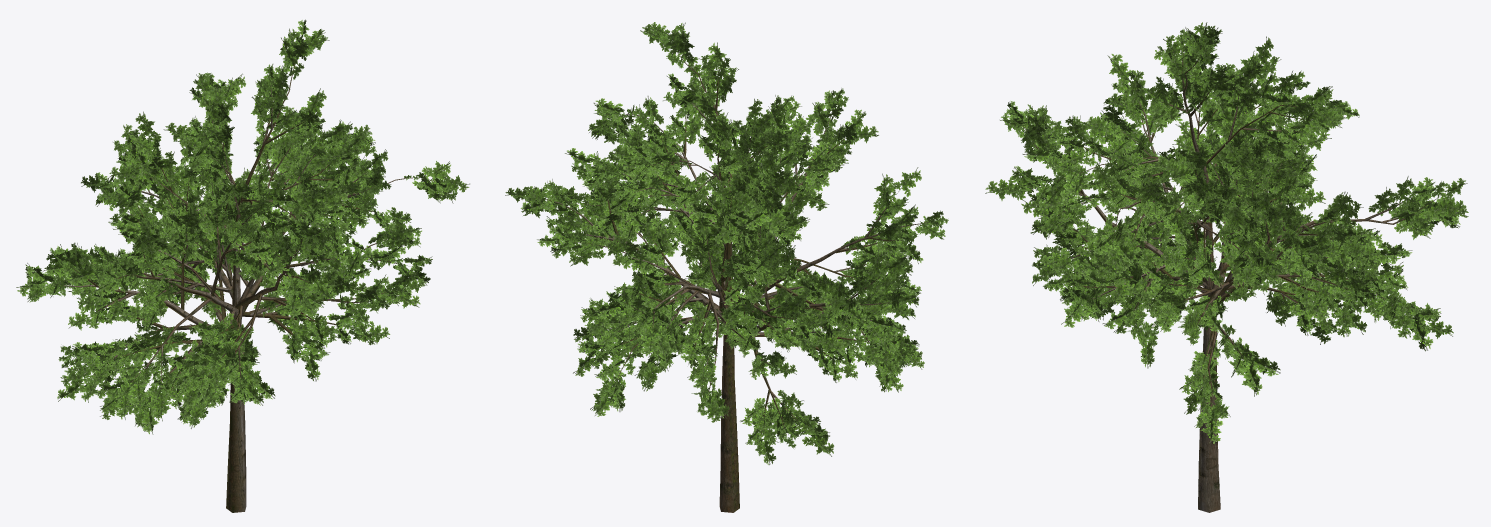
The model's file is tree_oak_medium.glb.
3 views of the same model, side by side, from view 1: azimuth 30°, elevation 25°; view 2: azimuth 150°, elevation 25°; view 3: azimuth 270°, elevation 25° (orthographic). The views are drawn at different scales.
Visible parts, largest first — view 1: Leaves, Branches; view 2: Leaves, Branches; view 3: Leaves, Branches.
Boxes of the visible parts, bbox=[...] form: Leaves: bbox=[16, 19, 469, 434]; Branches: bbox=[50, 55, 440, 512]; Leaves: bbox=[505, 22, 948, 464]; Branches: bbox=[545, 52, 928, 512]; Leaves: bbox=[985, 22, 1468, 443]; Branches: bbox=[1021, 45, 1438, 512].
Bounding box in the file's own units: 9.97 × 11.5 × 9.85.
Materials: 2 (2 with a texture image).
